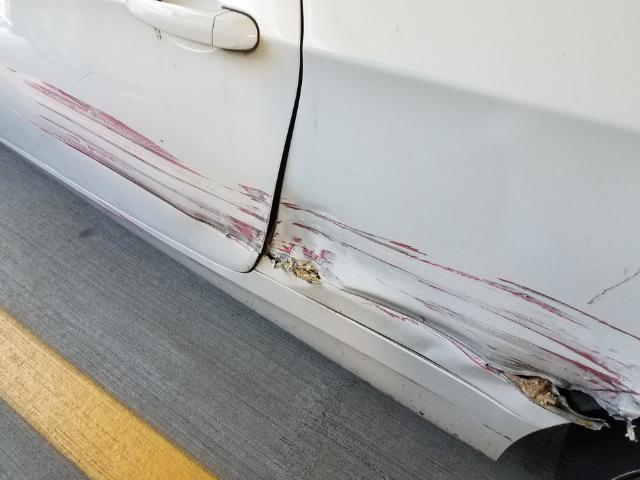Door: (255, 190, 640, 452), (4, 51, 271, 251), (578, 368, 578, 369)
